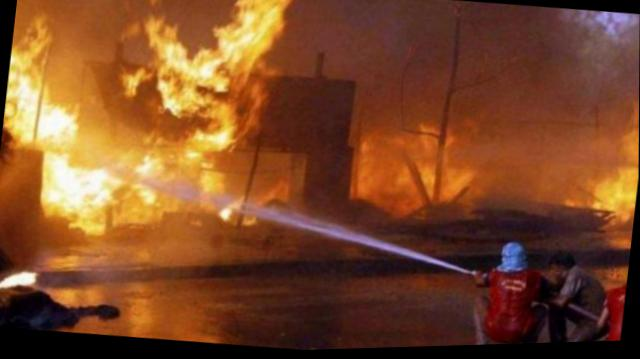fire: (123, 149, 191, 220), (3, 48, 46, 127), (38, 143, 77, 216), (165, 48, 210, 111), (69, 166, 110, 229), (36, 99, 88, 144), (233, 0, 261, 74), (209, 27, 237, 95), (153, 25, 172, 95), (24, 9, 52, 50), (260, 0, 293, 33), (196, 130, 236, 153), (600, 194, 636, 215), (138, 153, 160, 177), (141, 187, 154, 209), (220, 208, 229, 223)
smoke: (350, 0, 637, 146), (461, 125, 618, 179), (294, 0, 366, 85), (83, 23, 117, 165), (480, 165, 586, 208), (47, 16, 89, 96), (118, 226, 201, 264), (21, 0, 129, 22), (165, 0, 234, 18)
